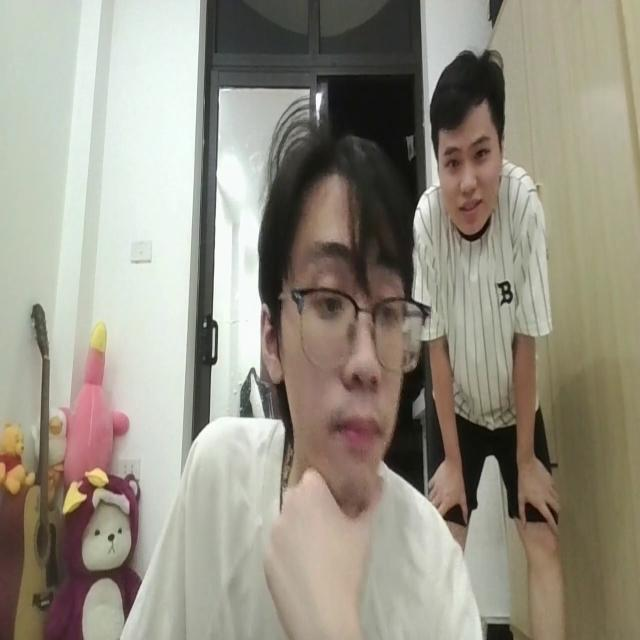extra_person: (413, 44, 563, 572)
student: (130, 123, 476, 640)
